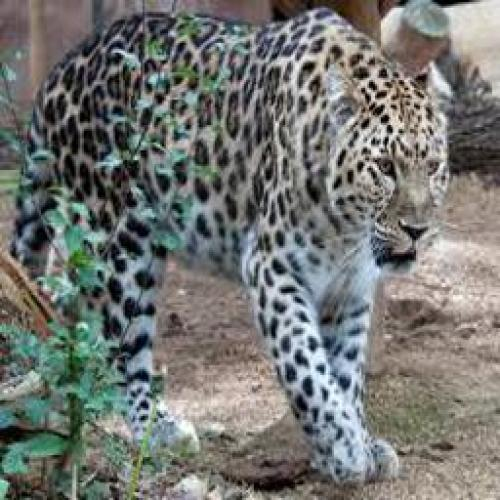amur_leopard-endangered: (13, 12, 448, 485)
